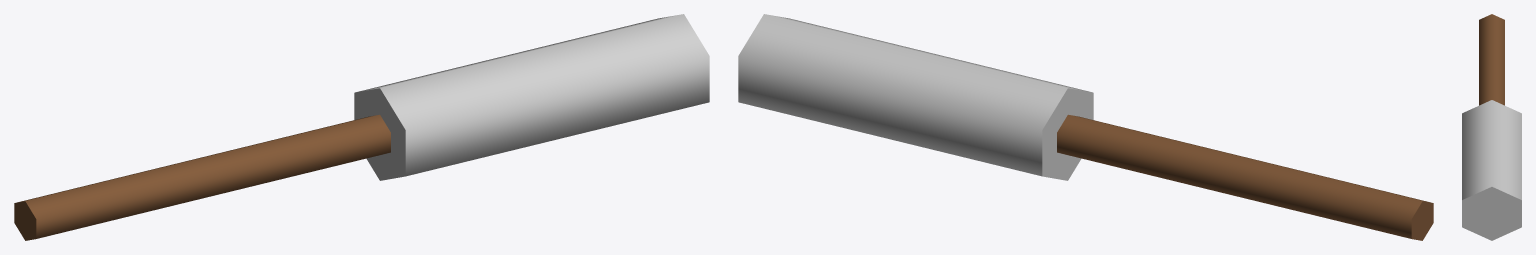
The model's file is club.obj.
3 views of the same model, side by side, from view 1: azimuth 30°, elevation 25°; view 2: azimuth 150°, elevation 25°; view 3: azimuth 270°, elevation 25° (orthographic). The views are drawn at different scales.
Visible parts, largest first — view 1: stuff_tinted_head, wood_grip; view 2: stuff_tinted_head, wood_grip; view 3: stuff_tinted_head, wood_grip.
Boxes of the visible parts, x1,y1,x2,y2 form: stuff_tinted_head: (354, 14, 709, 180); wood_grip: (14, 114, 390, 240); stuff_tinted_head: (738, 14, 1093, 180); wood_grip: (1057, 114, 1433, 240); stuff_tinted_head: (1462, 100, 1521, 240); wood_grip: (1479, 14, 1504, 105).
Size of the model in its own units: 0.52 by 0.07 by 0.07.
